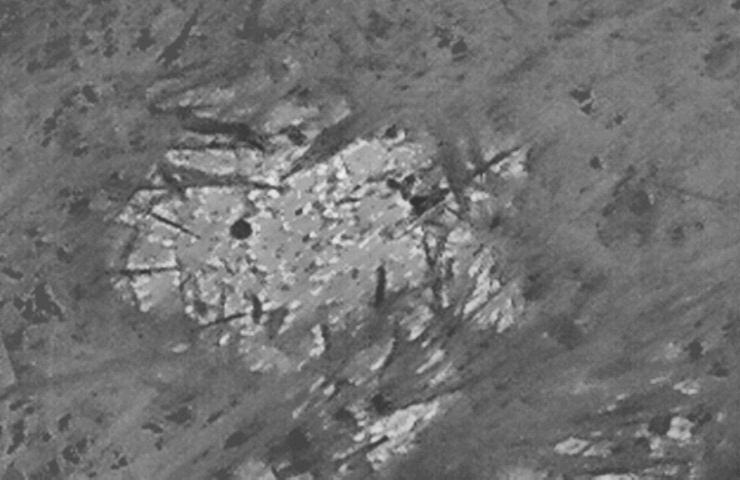landmines: (117, 68, 534, 452)
